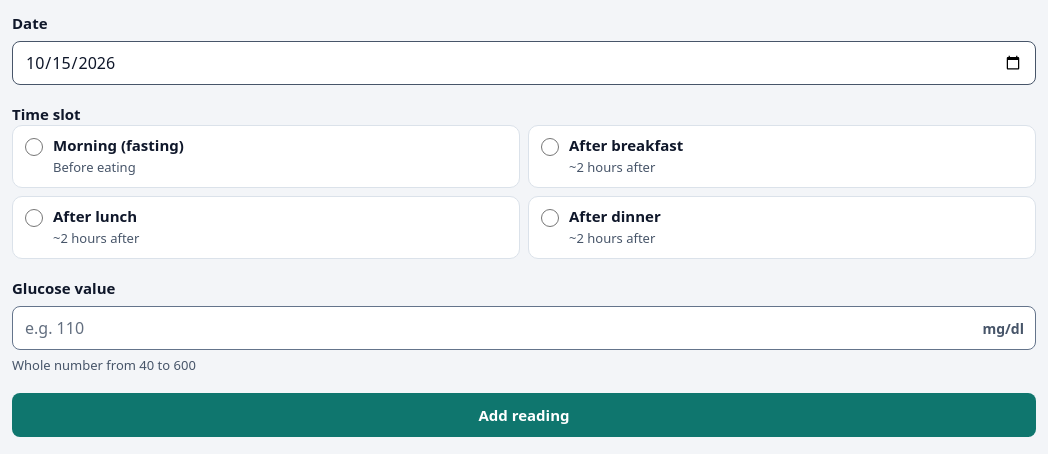
Scenario: ReadingForm › submits clean data and clears the value for the next reading
The width and height of the screenshot is (1048, 454).
Step 1. Click the radio button labelled "Morning (fasting) Before eating" → (34,147), box [25, 138, 43, 156]
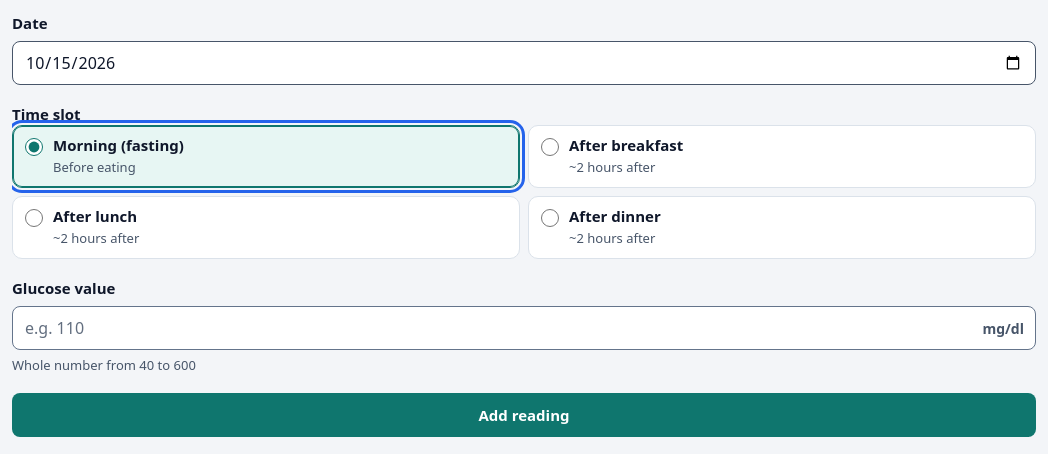
Step 2. Type "98" into the number field labelled "Glucose value" → (524,328), box [12, 306, 1036, 350]
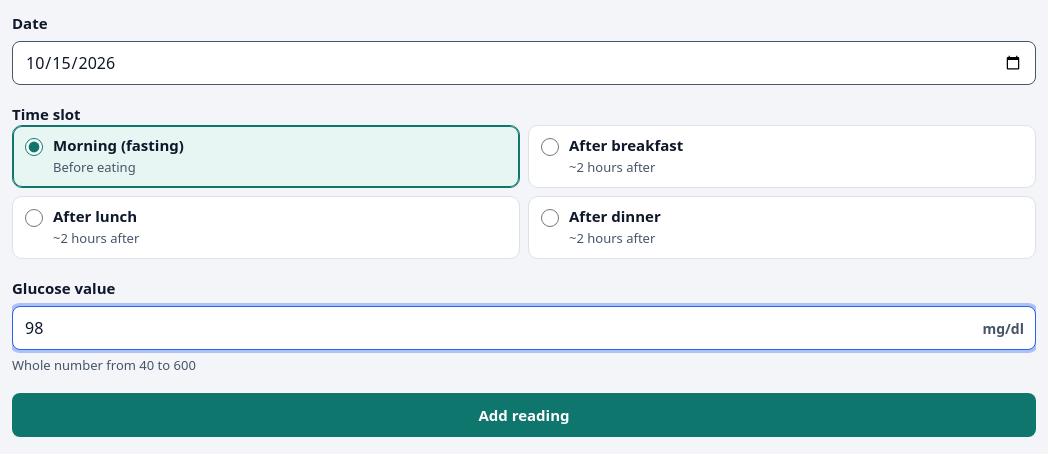
Step 3. Click the button "Add reading" → (524,415), box [12, 393, 1036, 437]
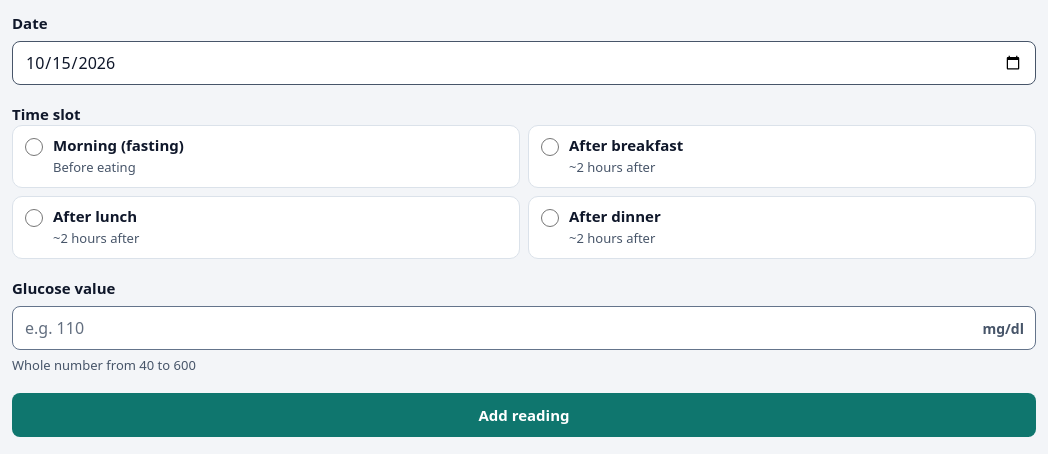
Expected: the radio button labelled "Morning (fasting) Before eating" is not checked, [25, 138, 43, 156]
Expected: the number field labelled "Glucose value" is not empty, [12, 306, 1036, 350]
